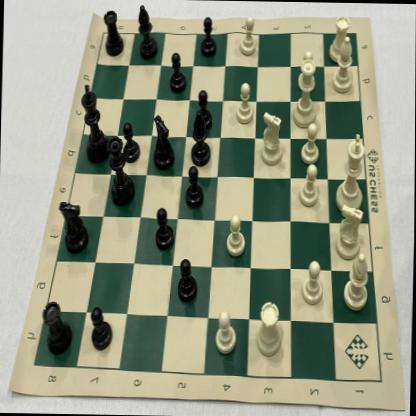black-bishop: (189, 110, 216, 169), (136, 3, 158, 61)
black-king: (78, 81, 111, 165)
black-knight: (57, 200, 88, 254), (151, 112, 176, 171)
black-pawn: (175, 255, 199, 304), (89, 304, 114, 350), (192, 88, 213, 134), (154, 206, 175, 252), (184, 164, 204, 209), (168, 50, 188, 93), (199, 15, 218, 58), (122, 120, 140, 165)
black-queen: (105, 136, 134, 206)
black-rook: (41, 298, 74, 356), (101, 7, 125, 59)
white-bishop: (342, 252, 371, 312), (330, 36, 355, 94)
white-king: (334, 132, 366, 214)
white-knight: (333, 204, 367, 260), (259, 110, 285, 167)
white-pawn: (214, 308, 240, 356), (224, 212, 248, 258), (297, 164, 322, 207), (301, 260, 324, 306), (298, 123, 320, 166), (235, 81, 256, 124), (238, 14, 258, 58), (296, 49, 315, 89)
white-queen: (290, 58, 321, 128)
white-rook: (254, 299, 285, 358), (328, 13, 349, 66)
